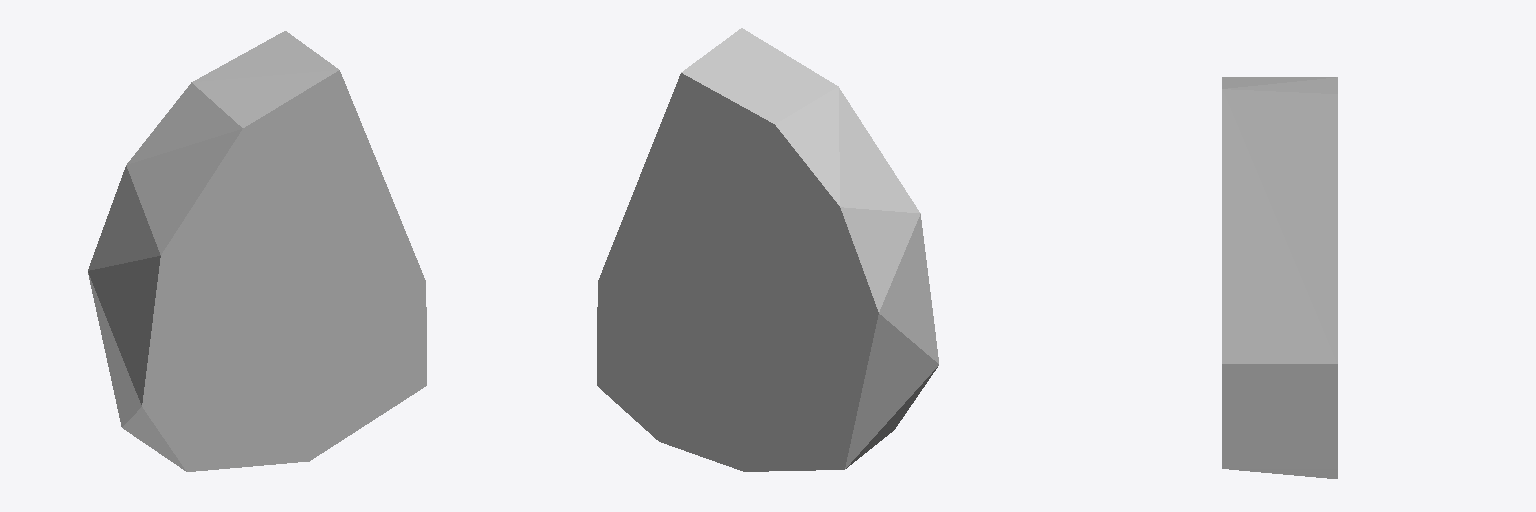
File: c_shape_simple_cvx.obj
3 renders of one model, left to right at view 1: azimuth 30°, elevation 25°; view 2: azimuth 150°, elevation 25°; view 3: azimuth 270°, elevation 25°, orthographic.
Bounding box in the file's own units: 0.1432 × 0.1857 × 0.05.